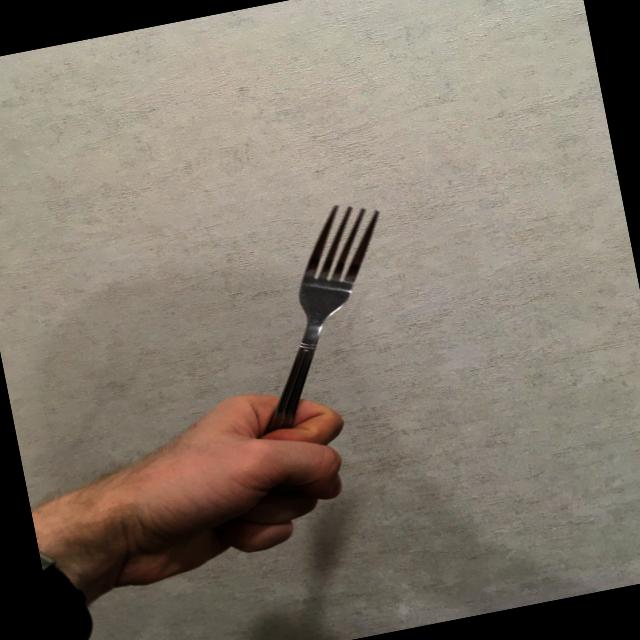fork: (220, 196, 426, 476)
